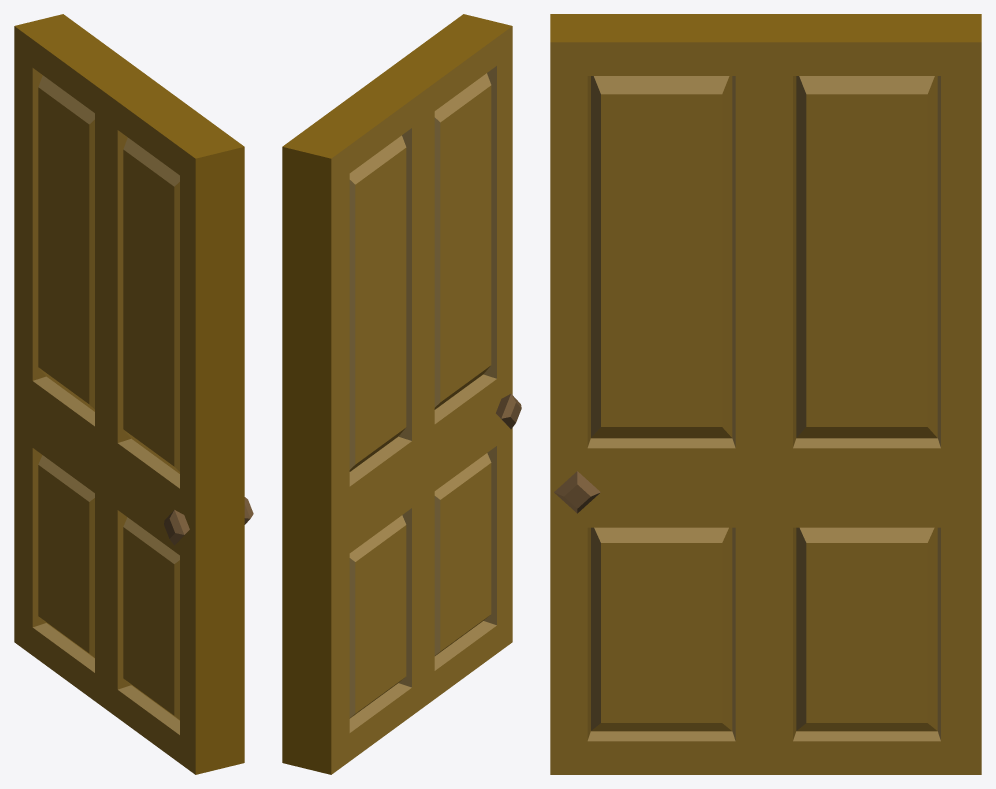
3 views of the same model, side by side, from view 1: azimuth 30°, elevation 25°; view 2: azimuth 150°, elevation 25°; view 3: azimuth 270°, elevation 25° (orthographic). The views are drawn at different scales.
Size of the model in its own units: 32 by 240 by 128.
Materials: 1 (1 with a texture image).
